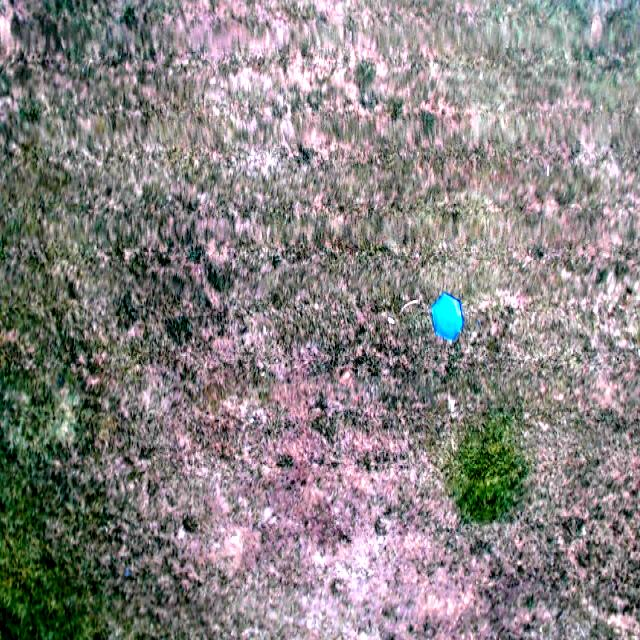blue_hexagon: (430, 292, 463, 341)
